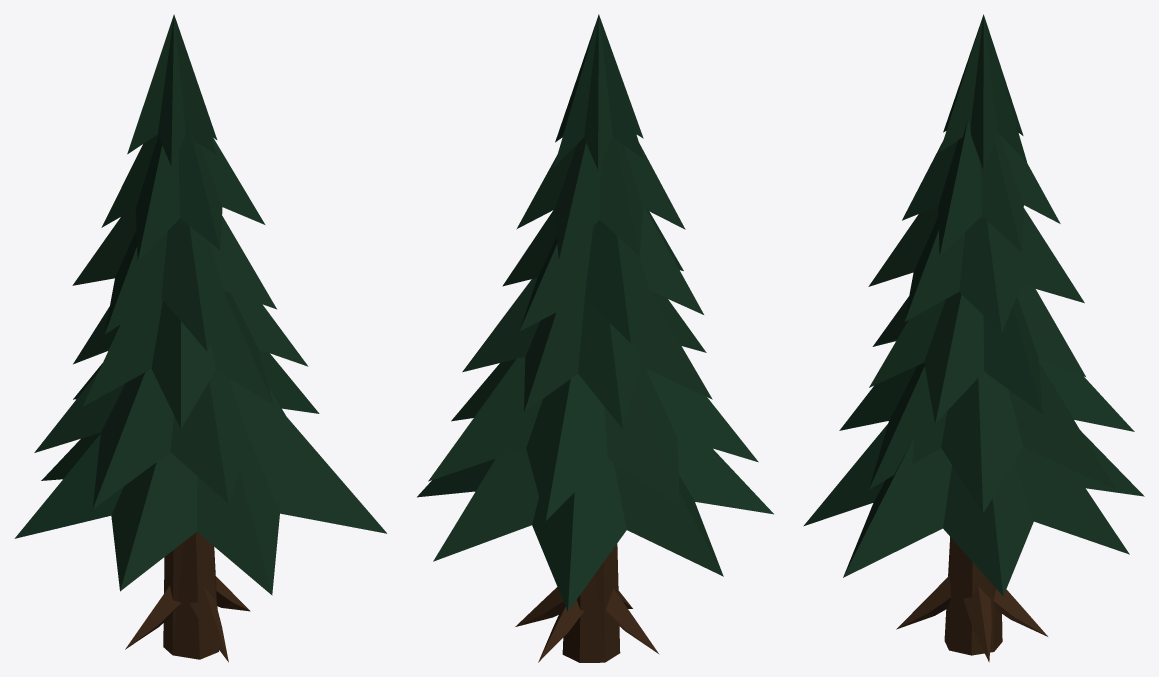
File: pino_a.fbx
The picture shows the model from 3 angles, left to right: view 1: azimuth 30°, elevation 25°; view 2: azimuth 150°, elevation 25°; view 3: azimuth 270°, elevation 25°; orthographic projection. The views are drawn at different scales.
Visible parts, largest first — view 1: pino_a; view 2: pino_a; view 3: pino_a.
Boxes of the visible parts, <box> form: pino_a: <box>14,14,386,662</box>; pino_a: <box>417,14,773,662</box>; pino_a: <box>803,14,1144,662</box>.
Size of the model in its own units: 4.8 by 9.36 by 4.65.
